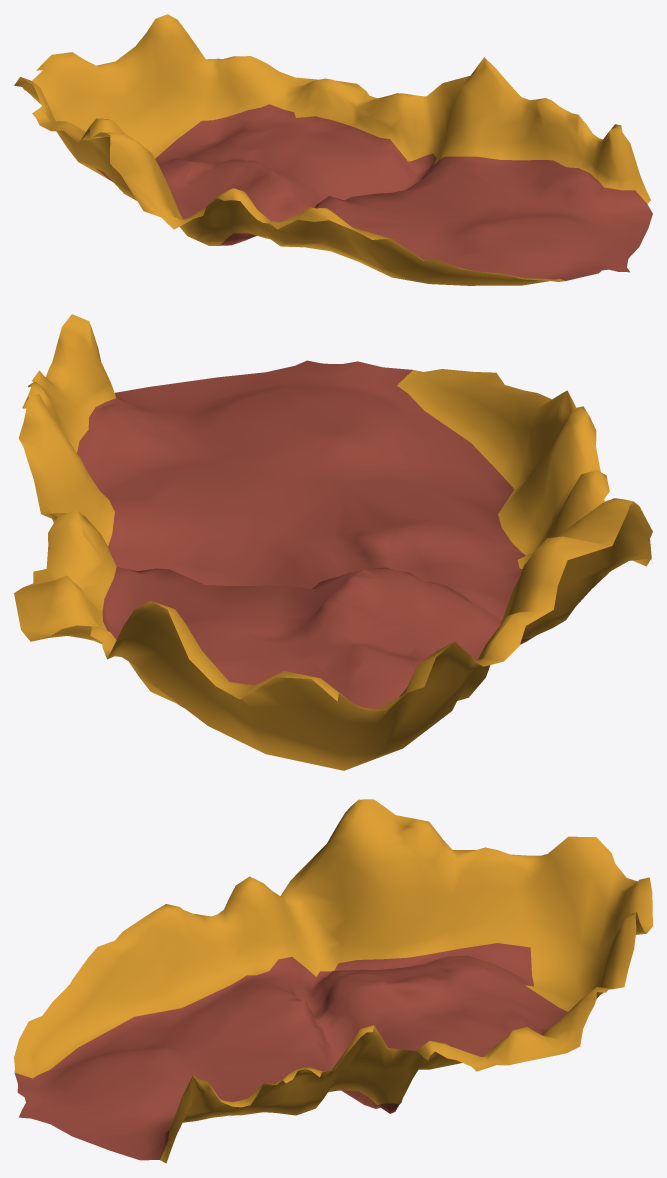
The model's file is SM_Landscape.FBX.
3 renders of one model, top to bottom at view 1: azimuth 30°, elevation 25°; view 2: azimuth 150°, elevation 25°; view 3: azimuth 270°, elevation 25°, orthographic. The views are drawn at different scales.
Visible parts, largest first — view 1: SM_Landscape; view 2: SM_Landscape; view 3: SM_Landscape.
Boxes of the visible parts, left/top/right/bottom form: SM_Landscape: left=14, top=14, right=652, bottom=285; SM_Landscape: left=14, top=314, right=652, bottom=770; SM_Landscape: left=14, top=799, right=652, bottom=1163.
Size of the model in its own units: 6697 by 1869 by 7367.
